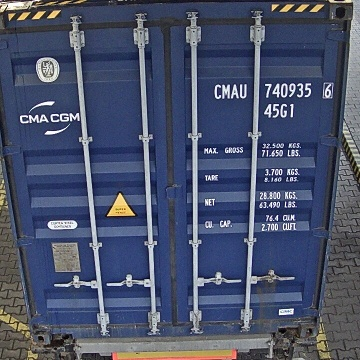serial_id: (214, 83, 333, 98)
